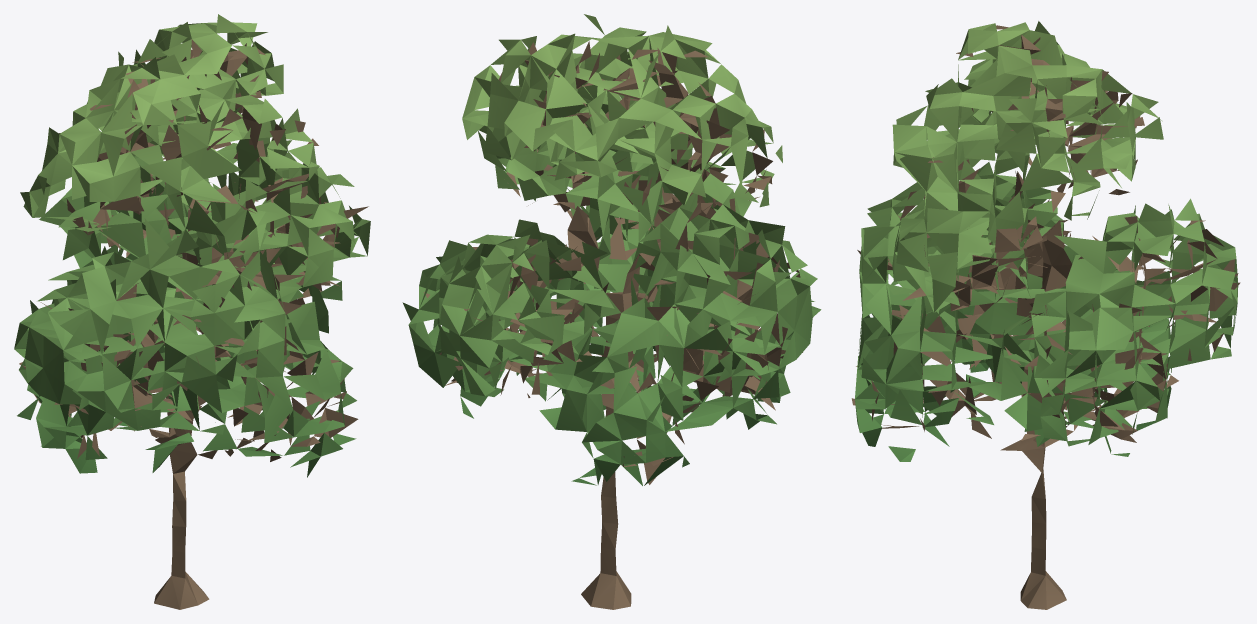
File: tree.glb
The picture shows the model from 3 angles, left to right: view 1: azimuth 30°, elevation 25°; view 2: azimuth 150°, elevation 25°; view 3: azimuth 270°, elevation 25°; orthographic projection.
Visible parts, largest first — view 1: prop; view 2: prop; view 3: prop.
Boxes of the visible parts, box(x1,y1,x2,y2) form: prop: box(14, 14, 370, 609); prop: box(402, 14, 821, 609); prop: box(851, 21, 1240, 609).
Size of the model in its own units: 6.82 by 11.2 by 7.07.
